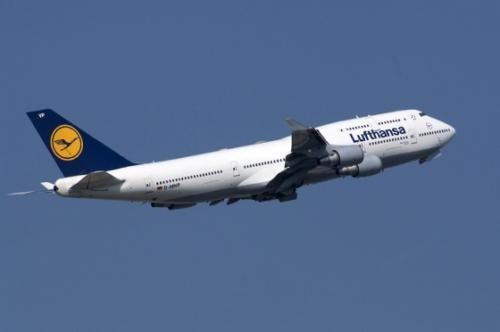airplane: (23, 103, 474, 209)
